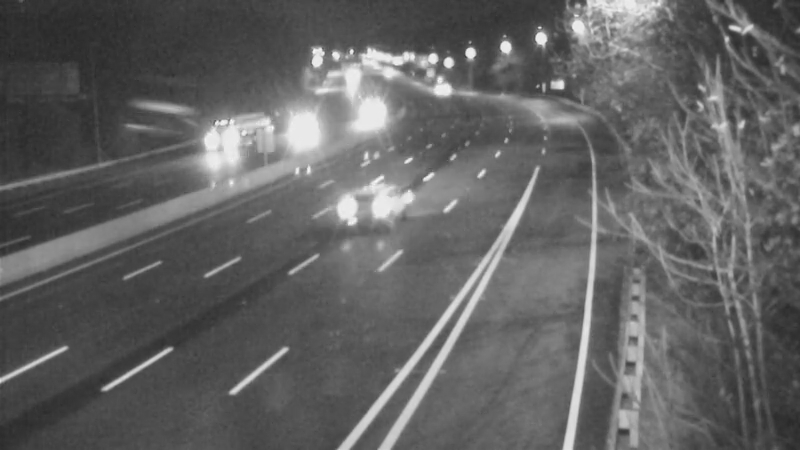vehicle: (333, 171, 413, 251), (414, 62, 464, 112), (184, 111, 234, 161), (273, 106, 323, 156), (344, 96, 394, 146)
